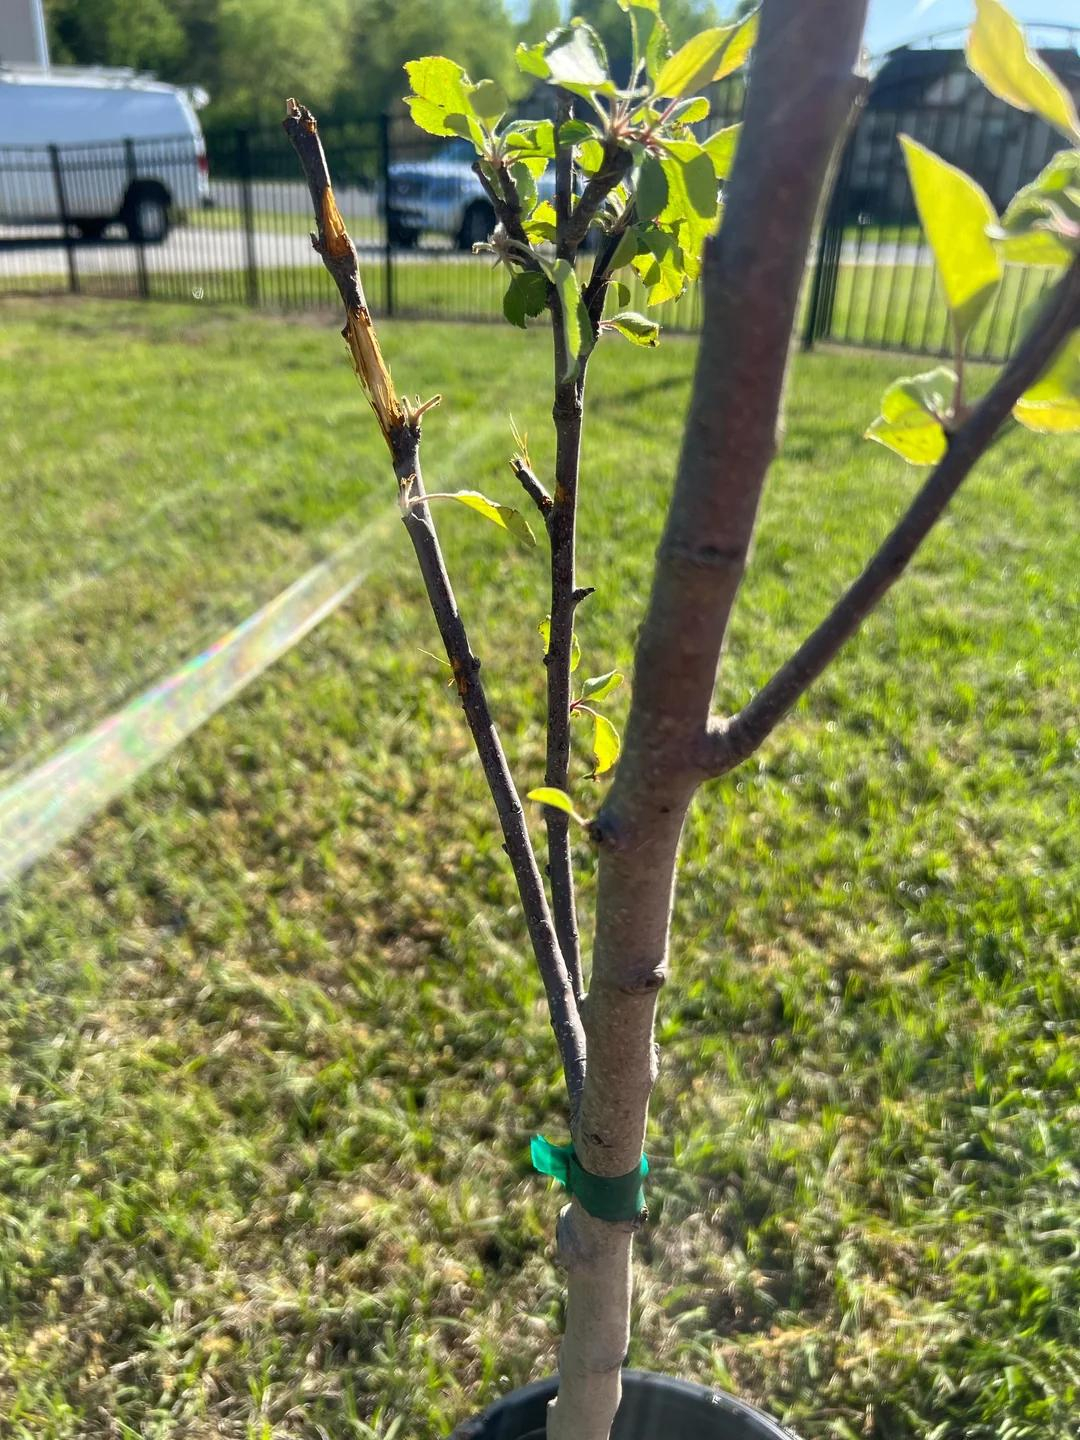mechanical damage: (346, 302, 414, 424)
